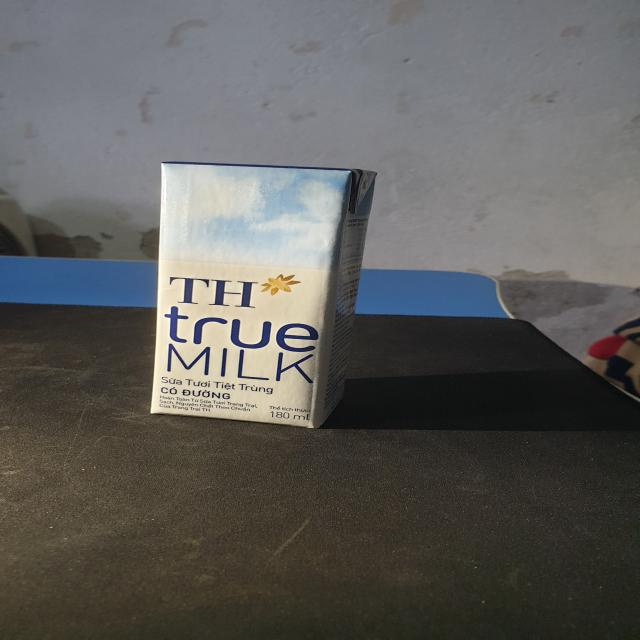TH: (144, 159, 384, 433)
